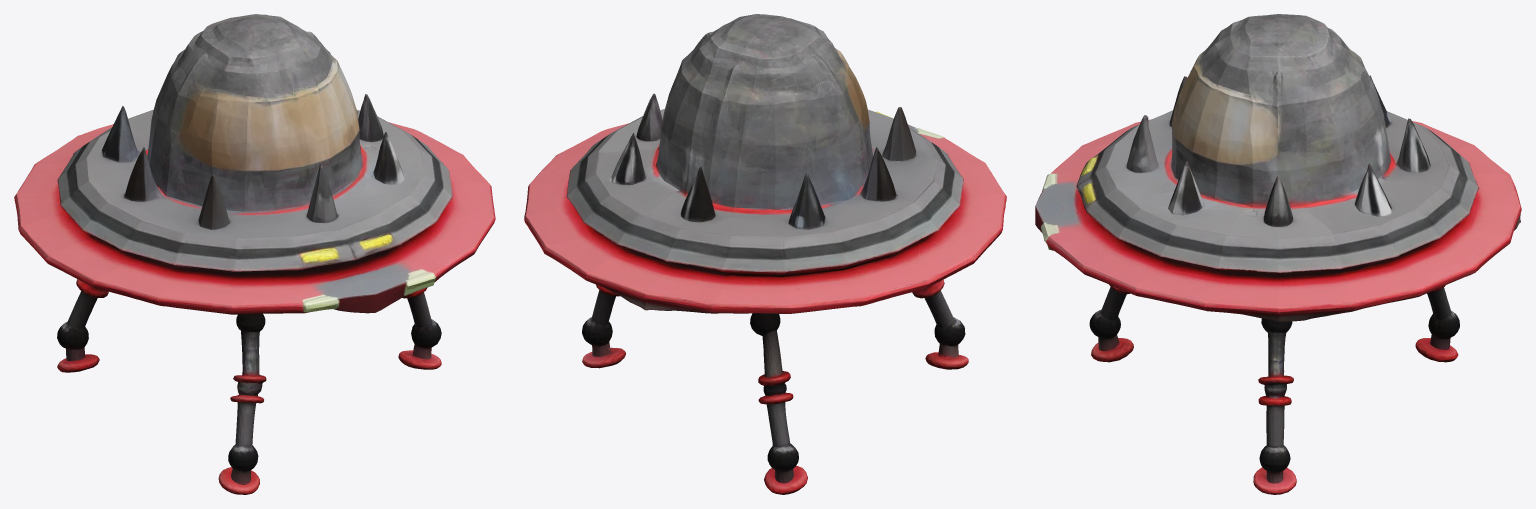
The model's file is partflow_t04.glb.
3 views of the same model, side by side, from view 1: azimuth 30°, elevation 25°; view 2: azimuth 150°, elevation 25°; view 3: azimuth 270°, elevation 25° (orthographic).
Visible parts, largest first — view 1: geometry_0; view 2: geometry_0; view 3: geometry_0.
Boxes of the visible parts, x1,y1,x2,y2 form: geometry_0: (14,14,495,494); geometry_0: (524,14,1006,494); geometry_0: (1035,14,1521,494).
Size of the model in its own units: 2 by 1.74 by 2.
Materials: 1 (1 with a texture image).
